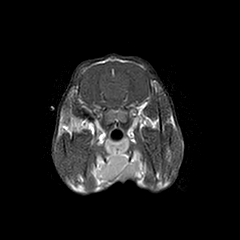Brain: (64, 34, 163, 132)
